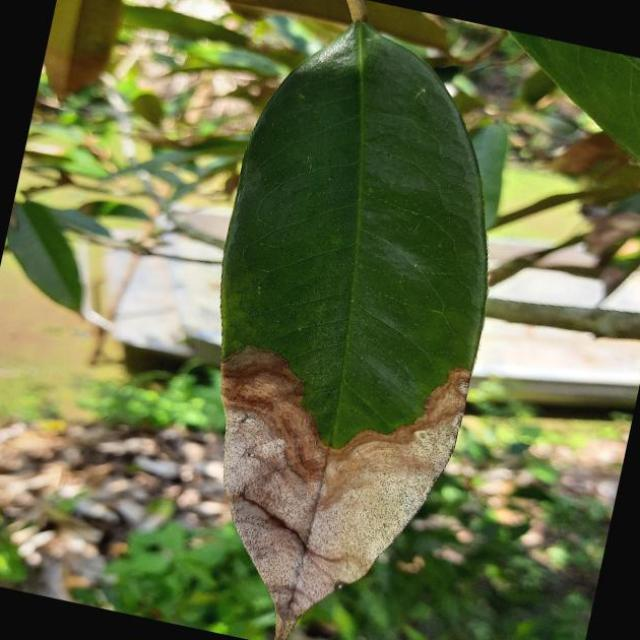Leaf Blight: (133, 0, 551, 640)
